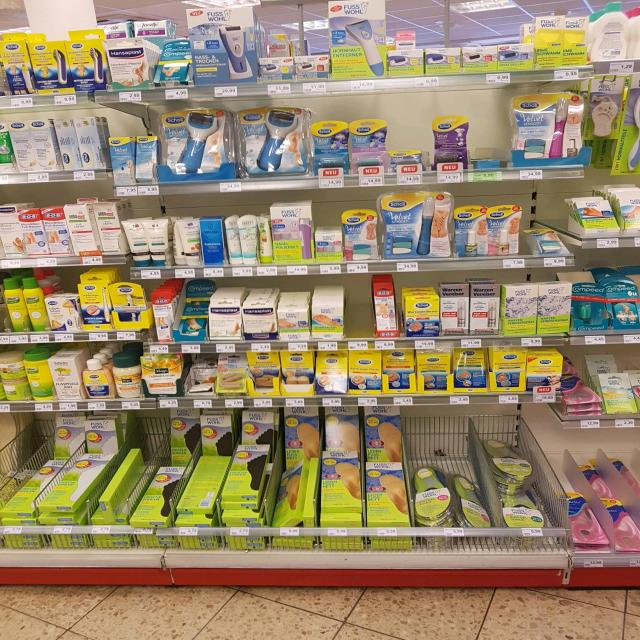empty_space: (468, 97, 511, 162)
